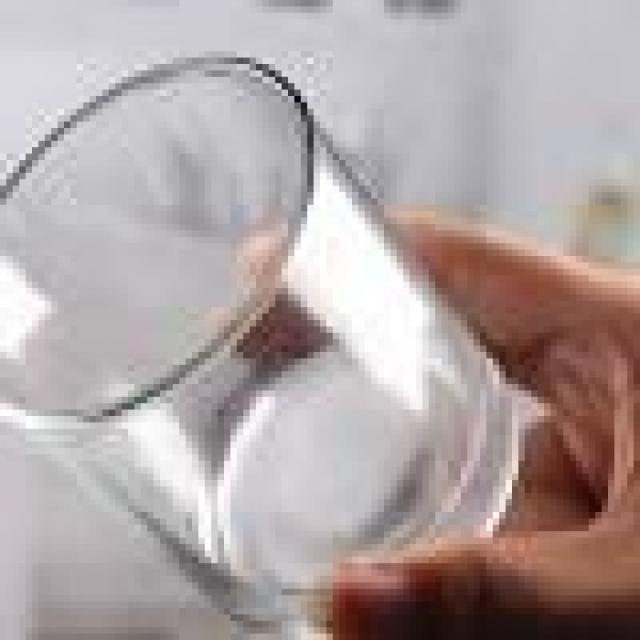glass: (0, 51, 525, 640)
